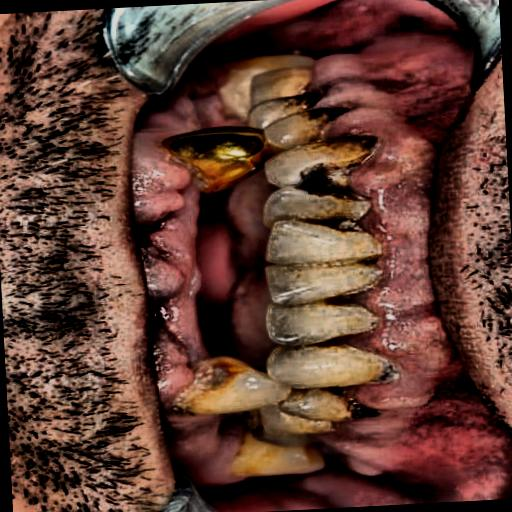Caries: (289, 143, 376, 254), (168, 348, 247, 410)
